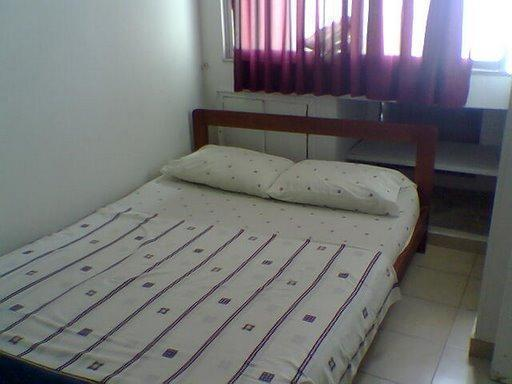Cama: (11, 99, 427, 383)
Ventana: (225, 5, 507, 93)
